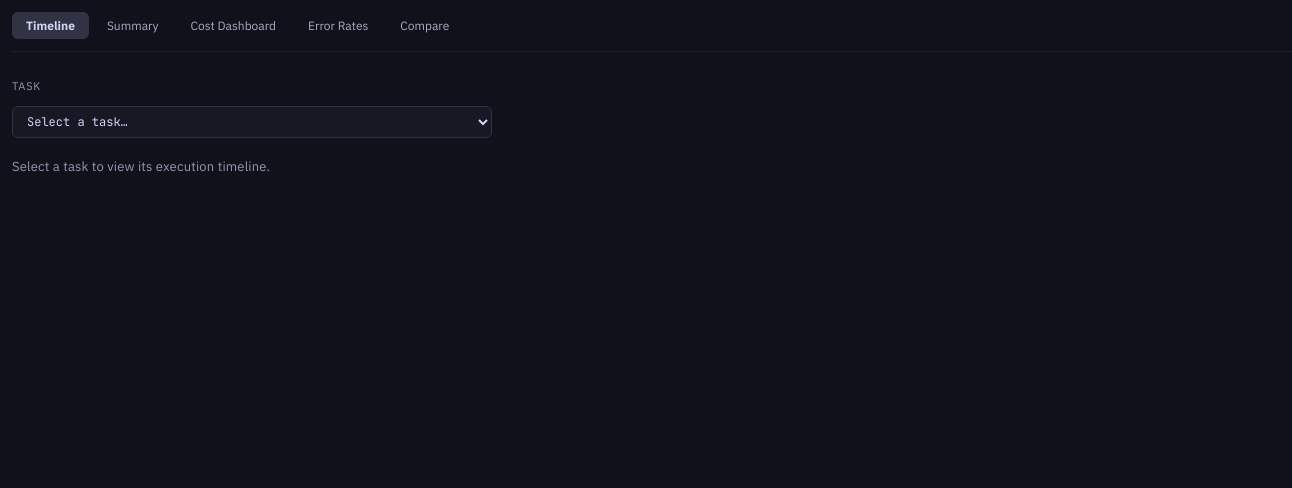
Test: M6.3 — Cost Dashboard chart + table semantics (O1/O6) › captions the error-rate tables
Expected: the element named "Observability views" is shown, [12,12,463,39]
Click the button "Error Rates": {"x": 338, "y": 26} [294,12,382,39]
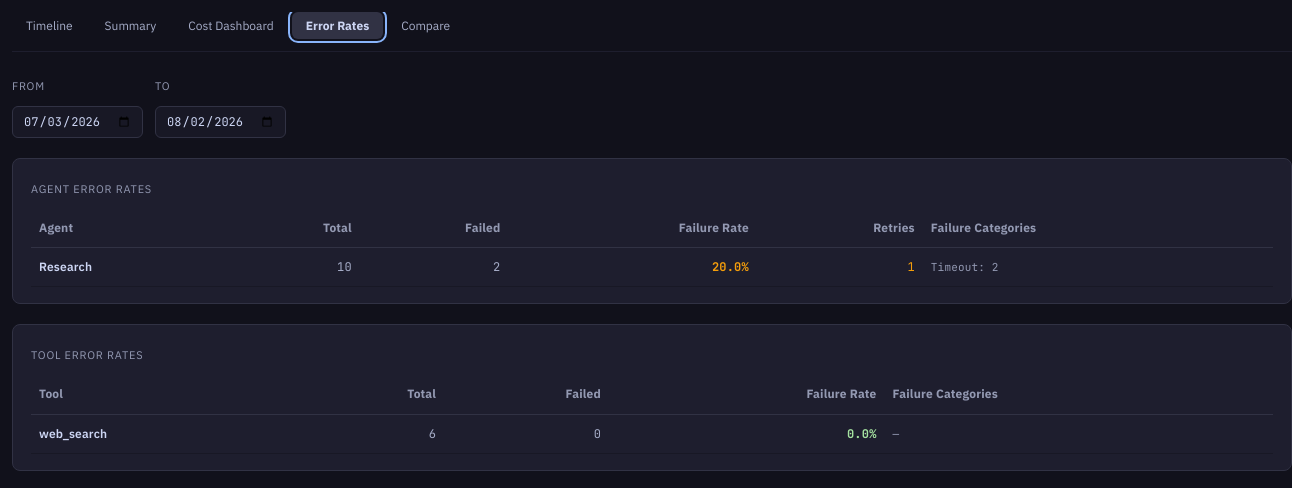
Result: the table named "Failure rates by agent" is shown at [31,209,1273,287]
Result: the table named "Failure rates by tool" is shown at [31,376,1273,454]
